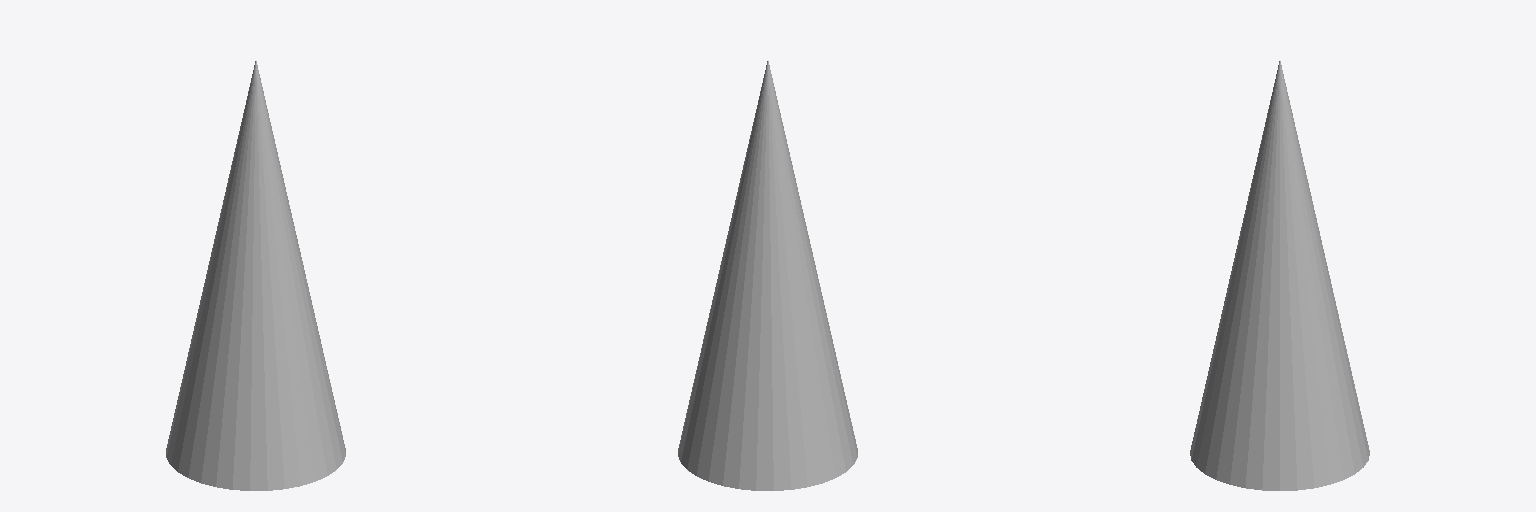
The model's file is cone_corrige.obj.
The picture shows the model from 3 angles: view 1: azimuth 30°, elevation 25°; view 2: azimuth 150°, elevation 25°; view 3: azimuth 270°, elevation 25°; orthographic projection.
Parts seen in each view (by area): view 1: Cone; view 2: Cone; view 3: Cone.
Part boxes in pixels (x1,y1,x2,y2): Cone: (166, 61, 345, 490); Cone: (678, 61, 857, 490); Cone: (1190, 61, 1369, 490).
Bounding box in the file's own units: 2 × 4.82 × 2.